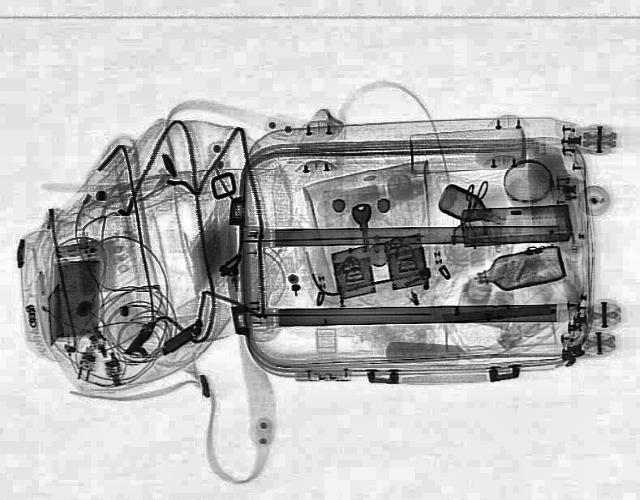Scissors: (454, 178, 488, 236)
